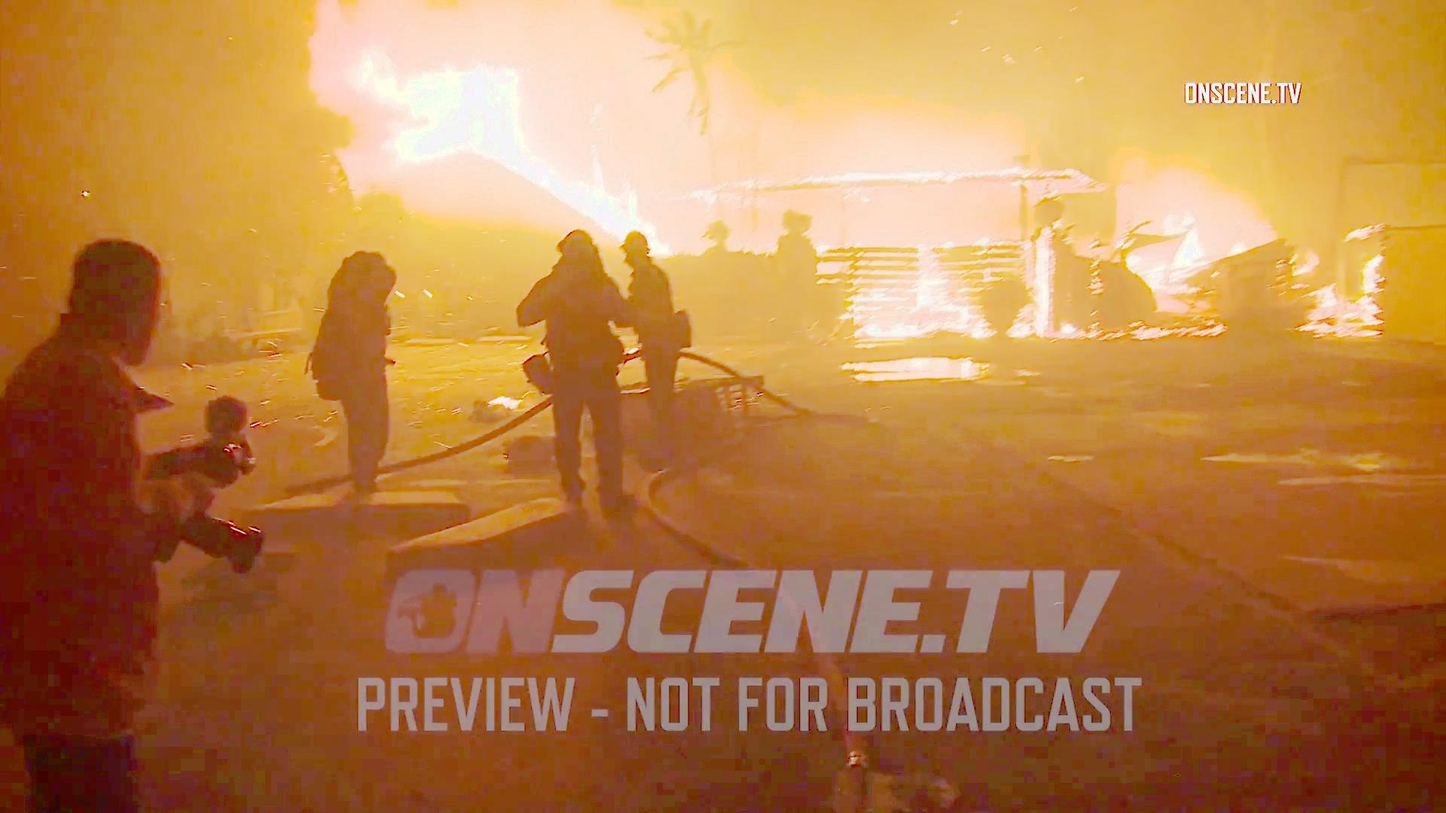fire: (352, 51, 542, 172), (840, 234, 974, 335), (541, 149, 694, 237), (1155, 222, 1227, 276)
